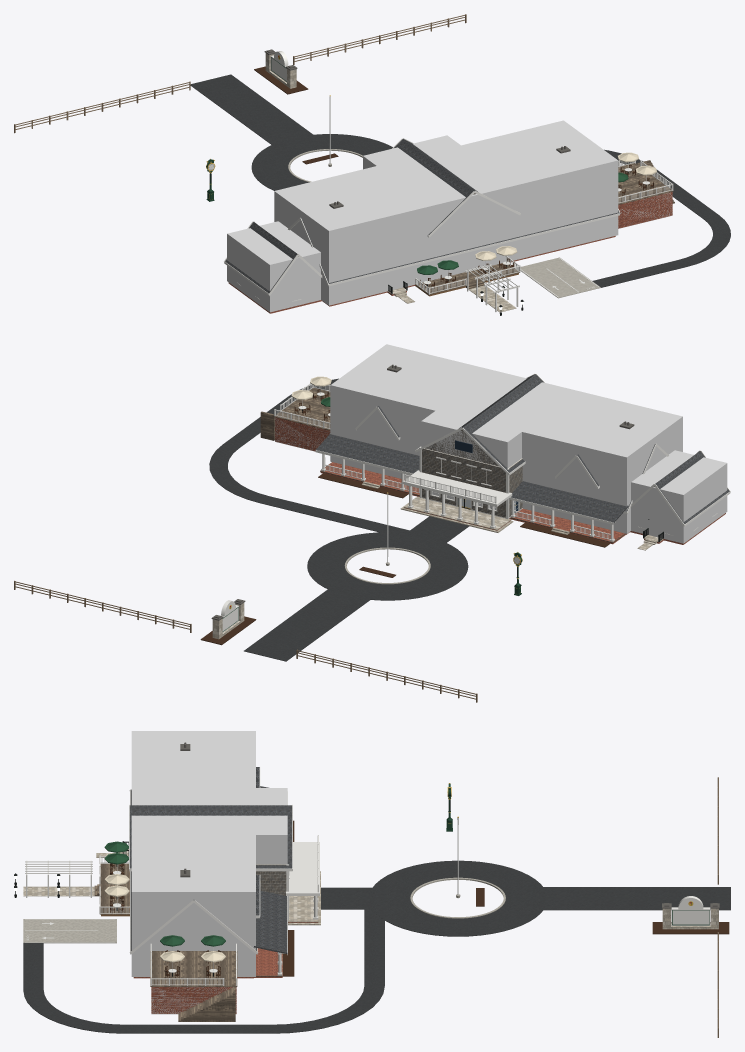
The model's file is clubhouse_l3.gltf.
3 views of the same model, one above another, from view 1: azimuth 30°, elevation 25°; view 2: azimuth 150°, elevation 25°; view 3: azimuth 270°, elevation 25° (orthographic). The views are drawn at different scales.
Parts seen in each view (by area): view 1: COL_main, BASE, COL_west, ROOF, WALLS_HIGH, COL_centre; view 2: COL_main, BASE, ROOF, COL_west, WALLS_HIGH, COL_centre; view 3: BASE, COL_main, ROOF, COL_centre, WALLS_HIGH, COL_deck.
Part boxes in pixels (x1=…): COL_main: x1=274, y1=120, x2=618, y2=305; BASE: x1=14, y1=14, x2=730, y2=315; COL_west: x1=227, y1=221, x2=320, y2=312; ROOF: x1=224, y1=138, x2=620, y2=295; WALLS_HIGH: x1=236, y1=160, x2=673, y2=301; COL_centre: x1=363, y1=135, x2=460, y2=169; COL_main: x1=330, y1=344, x2=682, y2=533; BASE: x1=14, y1=376, x2=725, y2=702; ROOF: x1=315, y1=364, x2=730, y2=526; COL_west: x1=631, y1=450, x2=727, y2=543; WALLS_HIGH: x1=274, y1=383, x2=717, y2=541; COL_centre: x1=421, y1=410, x2=522, y2=509; BASE: x1=14, y1=777, x2=730, y2=1037; COL_main: x1=131, y1=731, x2=255, y2=976; ROOF: x1=129, y1=742, x2=319, y2=955; COL_centre: x1=254, y1=788, x2=287, y2=864; WALLS_HIGH: x1=99, y1=841, x2=318, y2=985; COL_deck: x1=151, y1=987, x2=236, y2=1014.
Bounding box in the file's own units: 69.66 × 12.17 × 84.1.
Materials: 47 (11 with a texture image).
